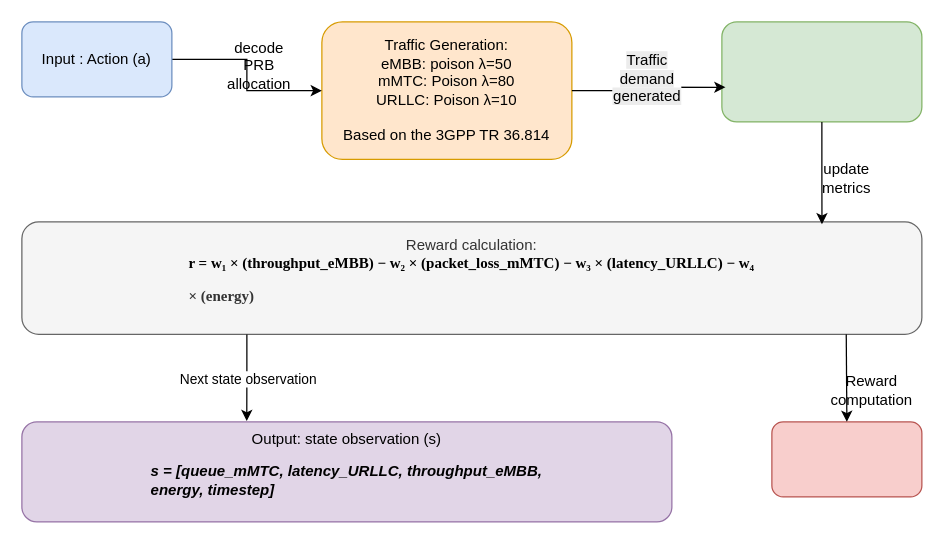
The diagram is 944 pixels wide and 544 high, and some of its shapes have lost their labels. Here are the shapes that lost their labels. From the top down, the centre of each, then its label:
the point at 821,71: Slice state update: mMTC queue update eMBB throughput URLLC latency
the point at 846,459: Output: reward signal Drives policy updates
